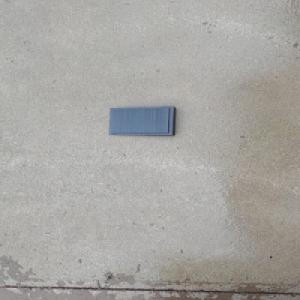PlasticPart: (107, 105, 176, 136)
